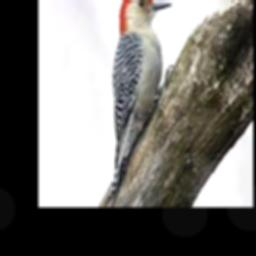Woodpecker: (101, 0, 171, 206)
